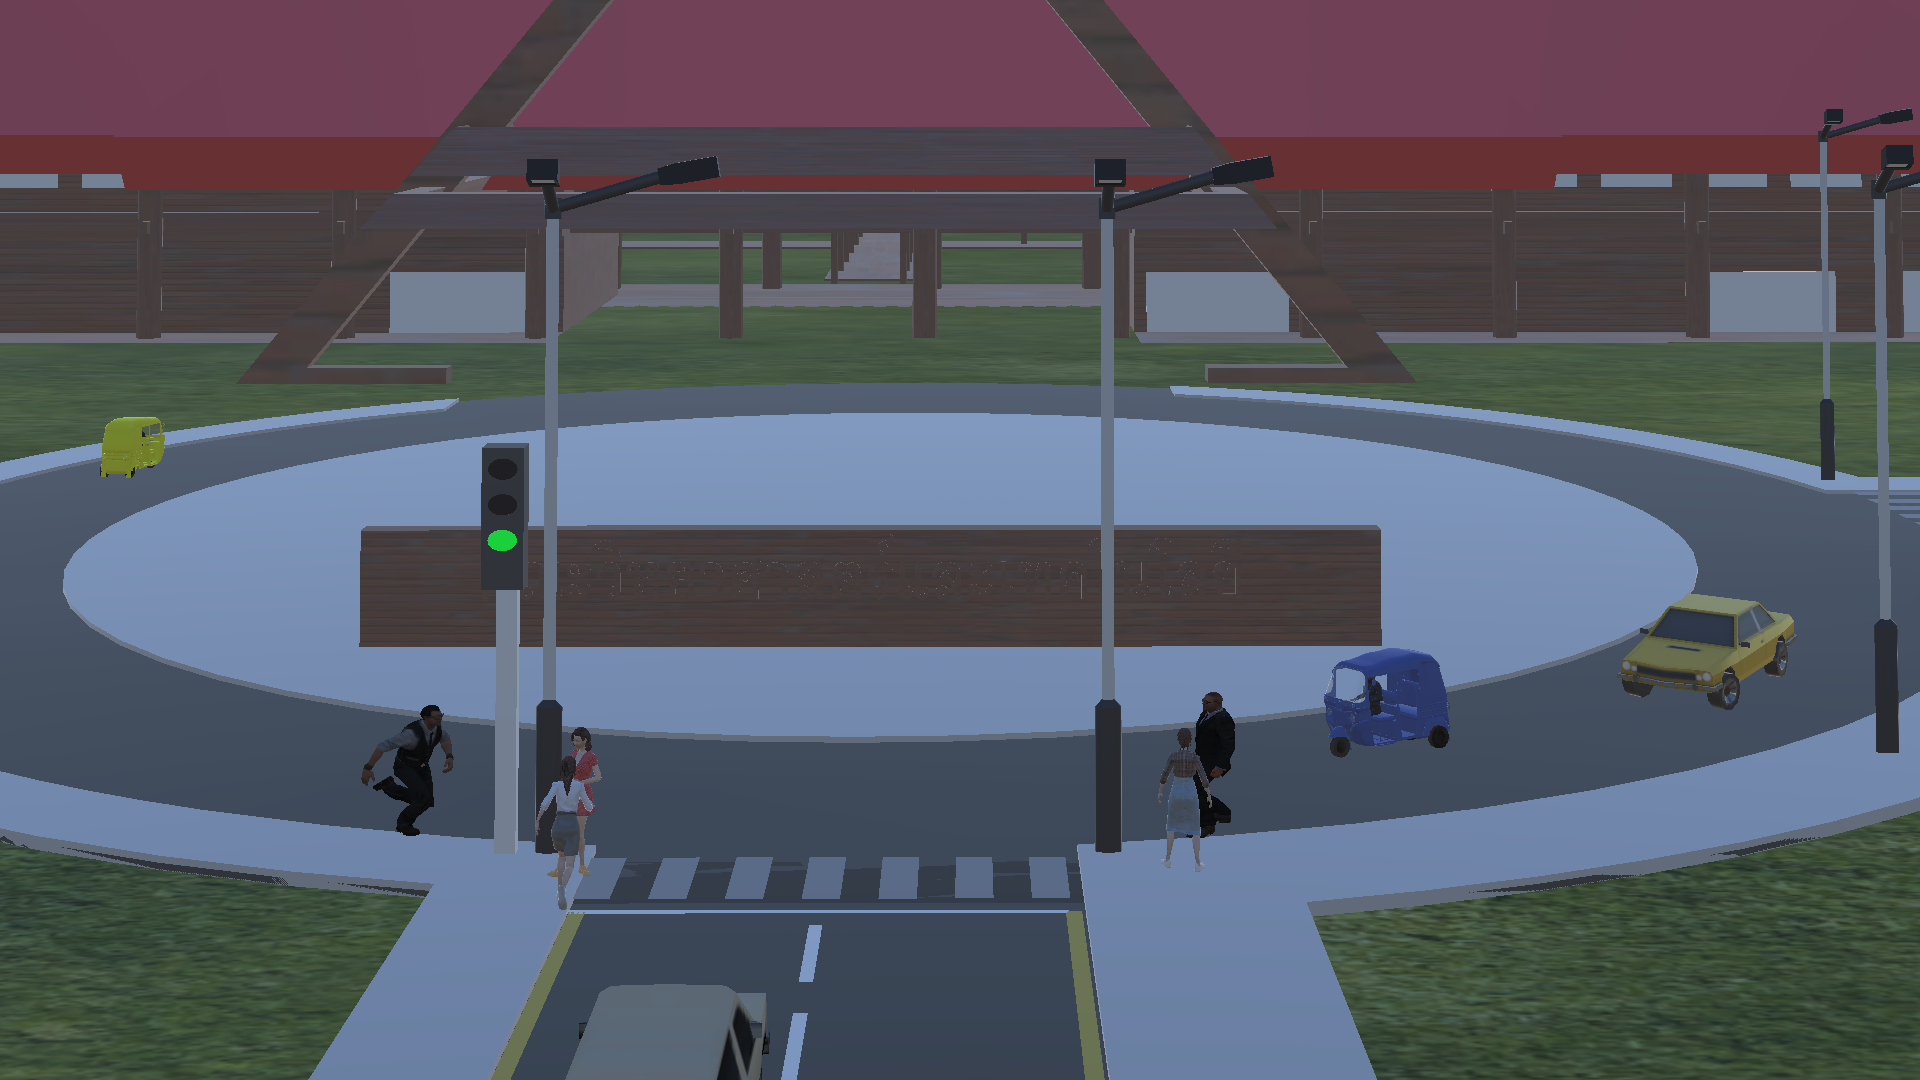pedestrian: (353, 699, 463, 840), (1149, 722, 1210, 869), (536, 755, 583, 920), (1191, 687, 1244, 831), (568, 715, 615, 821)
